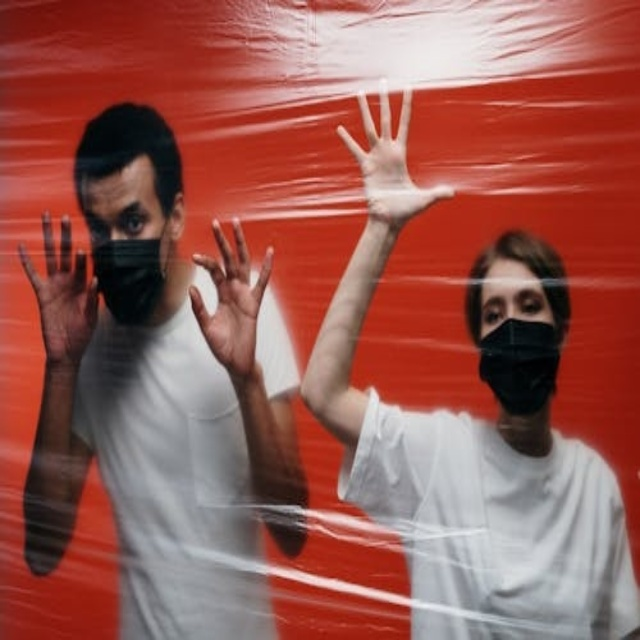Mascara: (477, 317, 561, 415), (91, 225, 171, 326)
Sin_gafas: (477, 269, 549, 320), (90, 189, 157, 234)
Sin_guantes: (337, 84, 457, 229), (186, 216, 275, 381), (17, 209, 101, 369)
